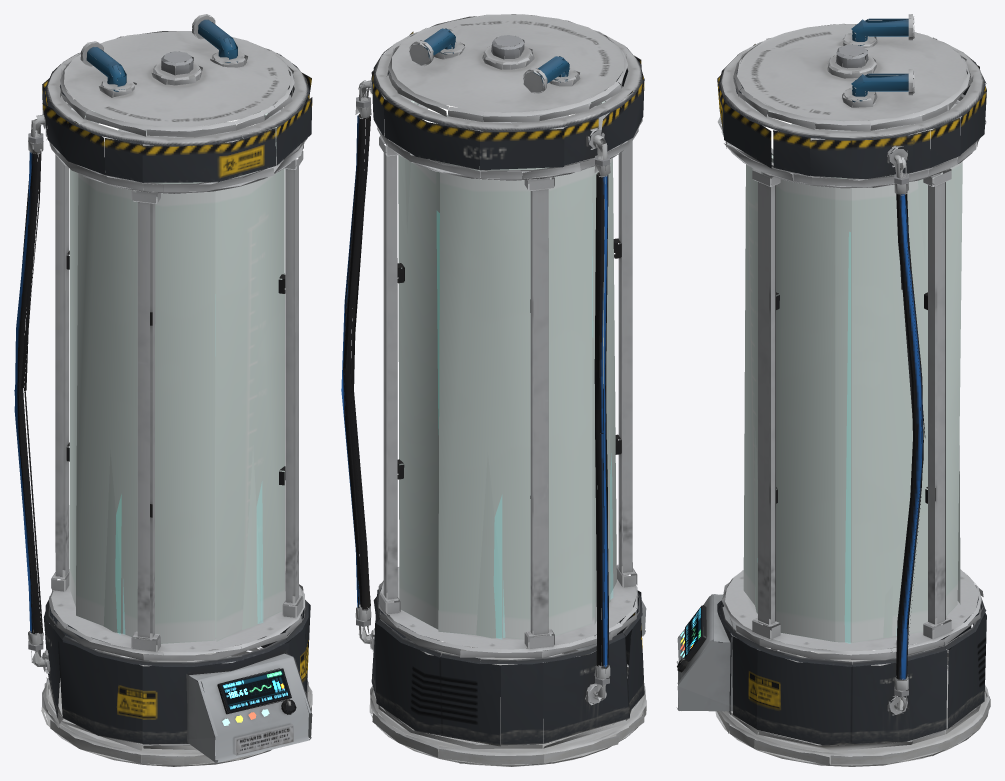
File: tank.glb
3 renders of one model, left to right at view 1: azimuth 30°, elevation 25°; view 2: azimuth 150°, elevation 25°; view 3: azimuth 270°, elevation 25°, orthographic. The views are drawn at different scales.
Parts seen in each view (by area): view 1: GEO_Glass_001, GEO_Frame_001, GEO_Base_001, GEO_Coolant_001; view 2: GEO_Glass_001, GEO_Frame_001, GEO_Base_001, GEO_Coolant_001; view 3: GEO_Glass_001, GEO_Frame_001, GEO_Base_001, GEO_Coolant_001.
Part boxes in pixels (left/top/right/bottom): GEO_Glass_001: left=69, top=110, right=284, bottom=643; GEO_Frame_001: left=14, top=14, right=312, bottom=673; GEO_Base_001: left=41, top=569, right=312, bottom=766; GEO_Coolant_001: left=116, top=485, right=262, bottom=633; GEO_Glass_001: left=398, top=100, right=616, bottom=639; GEO_Frame_001: left=341, top=14, right=644, bottom=705; GEO_Base_001: left=369, top=564, right=646, bottom=766; GEO_Coolant_001: left=437, top=211, right=612, bottom=638; GEO_Glass_001: left=743, top=107, right=962, bottom=642; GEO_Frame_001: left=717, top=14, right=986, bottom=715; GEO_Base_001: left=676, top=569, right=990, bottom=766; GEO_Coolant_001: left=845, top=232, right=850, bottom=643.
Size of the model in its own units: 0.7834 by 1.93 by 0.827.
5 materials, 5 textured.
